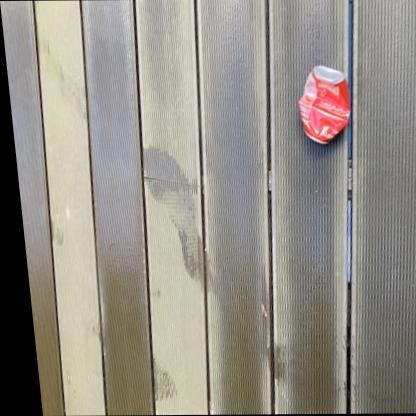trash: (299, 65, 349, 143)
